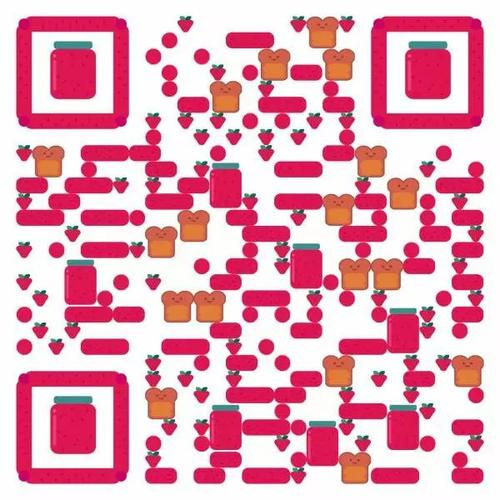QRCode: (10, 11, 492, 490)
